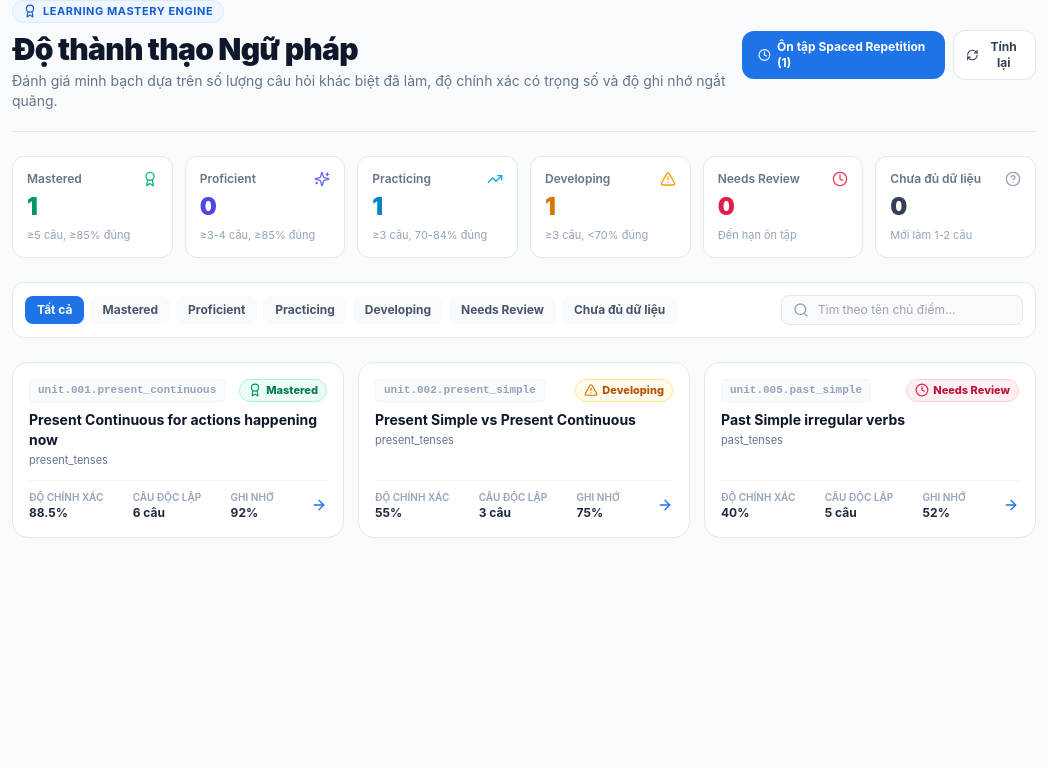
Test: Phase 3.2: Learning Mastery Engine & Personalized Learning Frontend UI › 2. MasteryPage filters concepts by search query
The image size is (1048, 768).
Expected: the heading "Độ thành thạo Ngữ pháp" is shown, top-left (12, 30), bottom-right (358, 66)
In the field with placeholder "Tìm theo tên chủ điểm...": (902,310) top-left (781, 295), bottom-right (1023, 325), type "irregular"
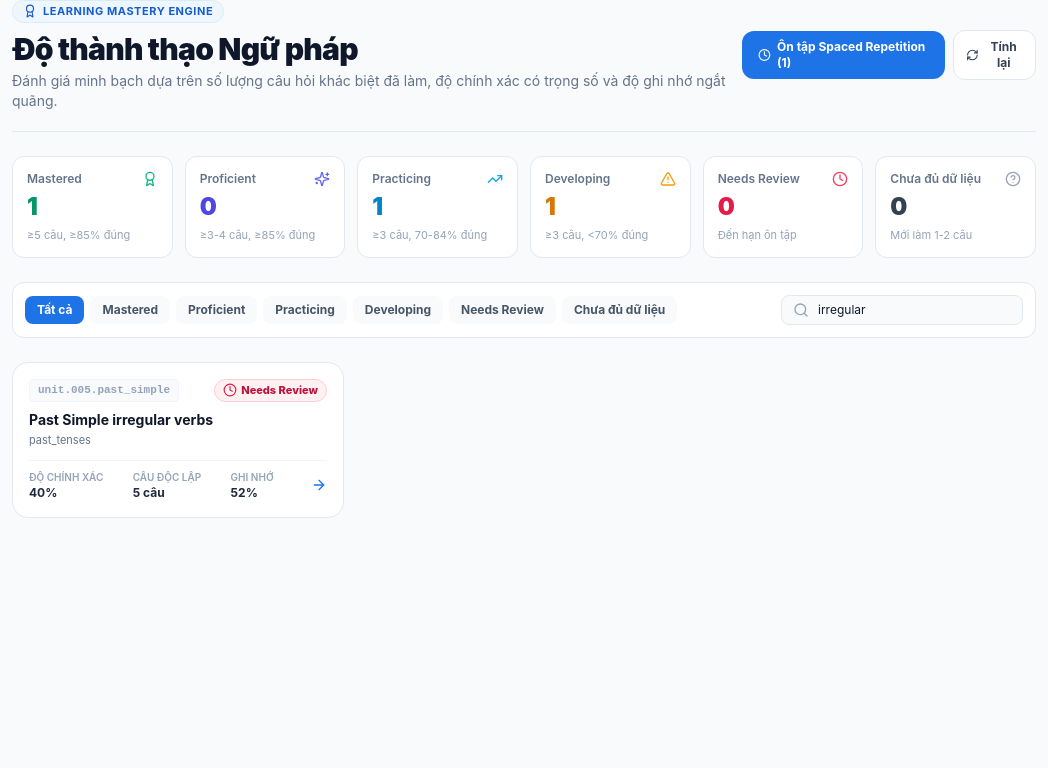
Expected: the heading "Past Simple irregular verbs" is shown, top-left (29, 410), bottom-right (213, 428)
Result: the heading "Present Continuous for actions happening now" is gone
